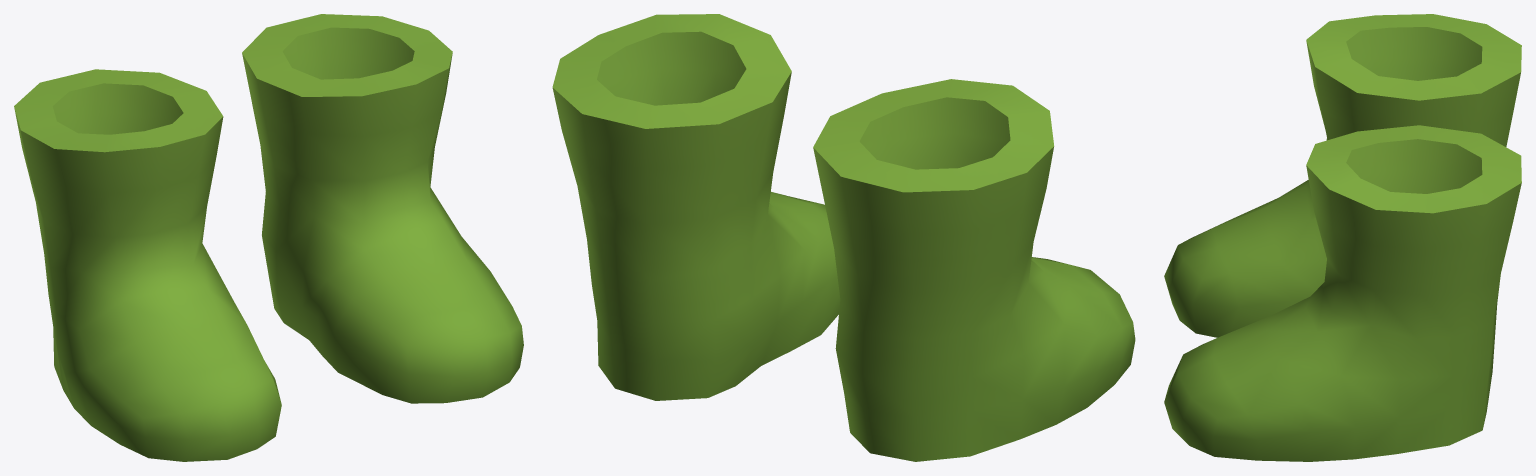
The model's file is Costume_5_04.glb.
3 renders of one model, left to right at view 1: azimuth 30°, elevation 25°; view 2: azimuth 150°, elevation 25°; view 3: azimuth 270°, elevation 25°, orthographic. The views are drawn at different scales.
Parts seen in each view (by area): view 1: Costume_5_04; view 2: Costume_5_04; view 3: Costume_5_04.
Boxes of the visible parts, bbox=[...] form: Costume_5_04: bbox=[14, 14, 523, 461]; Costume_5_04: bbox=[552, 14, 1135, 461]; Costume_5_04: bbox=[1164, 14, 1521, 461].
Bounding box in the file's own units: 0.2422 × 0.1498 × 0.1836.
Materials: 1 (1 with a texture image).
